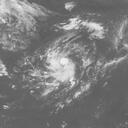cyclone: (45, 45, 77, 84)
